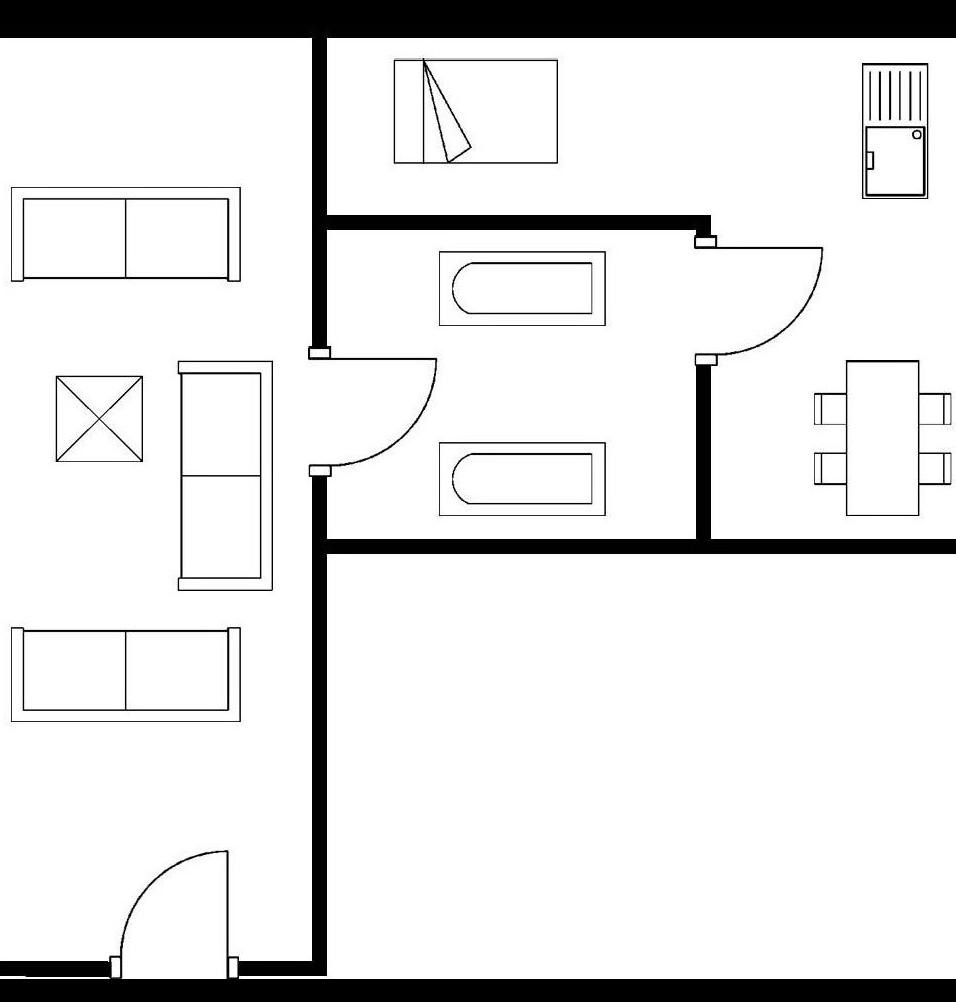bed: (386, 54, 563, 169)
dining_table: (807, 351, 956, 523)
sink: (858, 59, 933, 203)
sofa: (3, 618, 247, 728), (170, 354, 279, 597), (6, 178, 250, 286)
tub: (429, 434, 612, 522), (433, 245, 611, 332)
